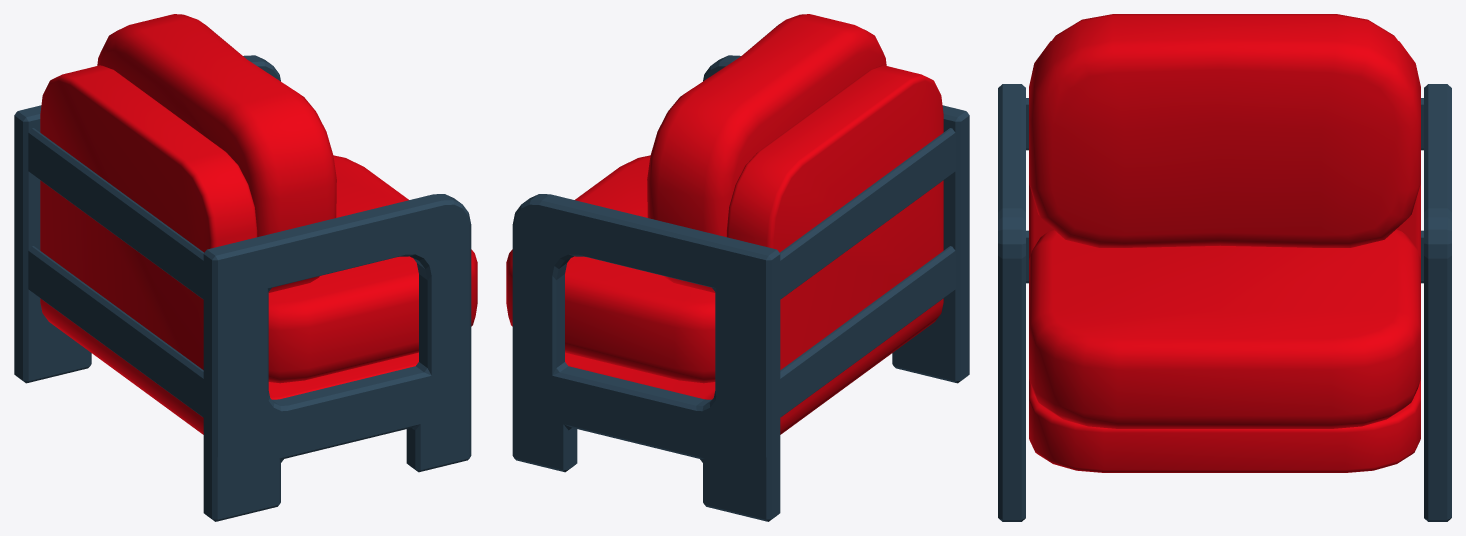
File: koltuk_montaj.fbx
The picture shows the model from 3 angles, left to right: view 1: azimuth 30°, elevation 25°; view 2: azimuth 150°, elevation 25°; view 3: azimuth 270°, elevation 25°; orthographic projection. The views are drawn at different scales.
Parts seen in each view (by area): view 1: Plane.219, Cube.128, Cube.129, Cube.131, Plane.217, Plane.218, Plane.220; view 2: Plane.217, Cube.128, Cube.129, Cube.131, Plane.219, Plane.218, Plane.220; view 3: Cube.129, Cube.131, Cube.128, Plane.217, Plane.219.
Part boxes in pixels (left/top/right/bottom): Plane.219: left=203, top=194, right=471, bottom=521; Cube.128: left=40, top=65, right=418, bottom=434; Cube.129: left=97, top=14, right=336, bottom=292; Cube.131: left=268, top=155, right=477, bottom=383; Plane.217: left=14, top=55, right=280, bottom=383; Plane.218: left=28, top=128, right=203, bottom=299; Plane.220: left=28, top=246, right=203, bottom=417; Plane.217: left=512, top=194, right=780, bottom=521; Cube.128: left=565, top=65, right=943, bottom=434; Cube.129: left=647, top=14, right=886, bottom=292; Cube.131: left=506, top=155, right=715, bottom=383; Plane.219: left=703, top=55, right=969, bottom=383; Plane.218: left=780, top=128, right=955, bottom=299; Plane.220: left=780, top=246, right=955, bottom=417; Cube.129: left=1029, top=14, right=1420, bottom=247; Cube.131: left=1029, top=229, right=1420, bottom=428; Cube.128: left=1029, top=41, right=1420, bottom=472; Plane.217: left=1424, top=84, right=1451, bottom=521; Plane.219: left=998, top=84, right=1025, bottom=521.
Bounding box in the file's own units: 63.15 × 71.6 × 71.89.
